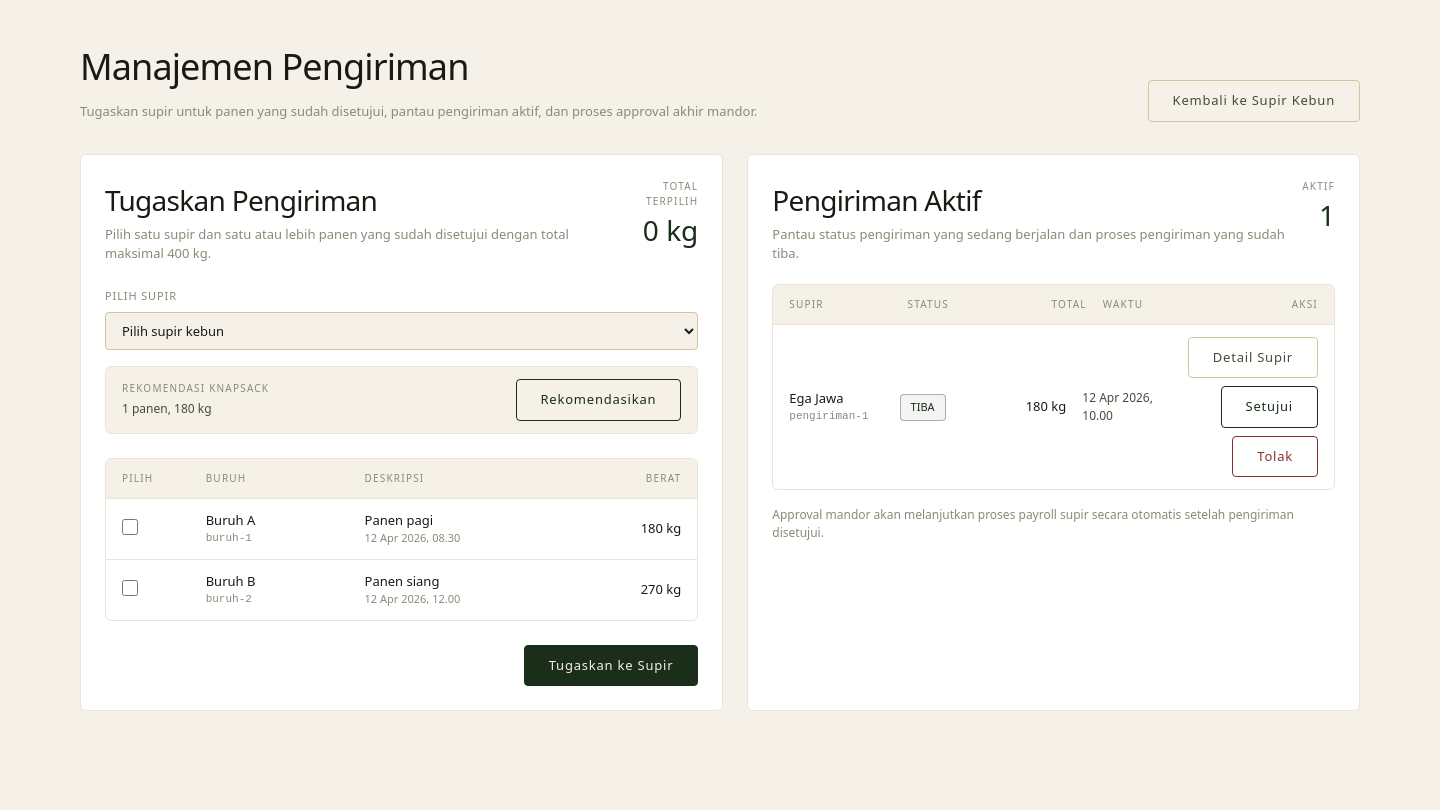
Test case: MandorPengirimanPage › applies the cached knapsack recommendation to selected panen
Click the button "Rekomendasikan".
click(598, 400)  # box [516,379,681,420]
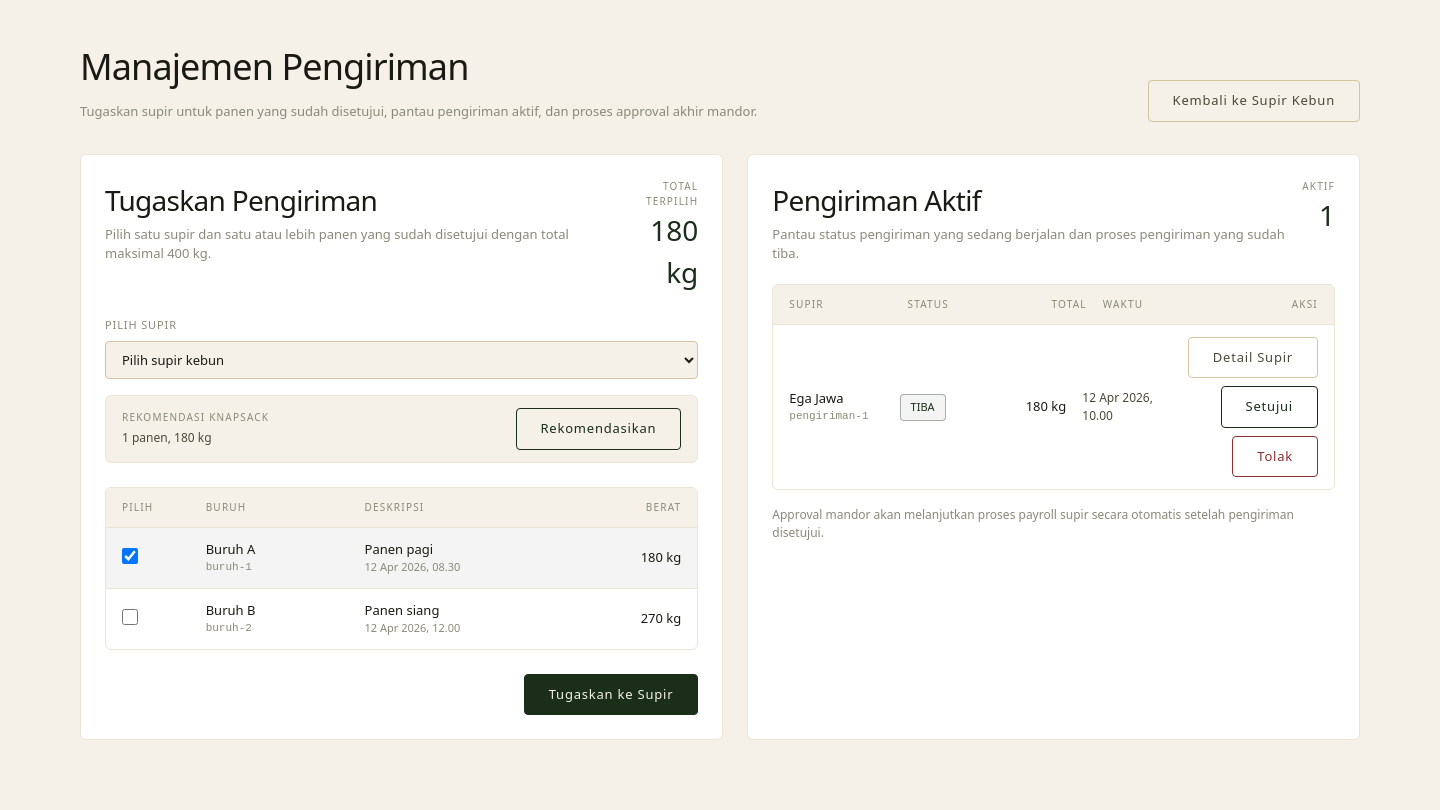
Expected: the checkbox labelled "Buruh B buruh-2 Panen siang 12 Apr 2026, 12.00 270 kg" is not checked, [122,608,138,624]
Now the checkbox labelled "Buruh A buruh-1 Panen pagi 12 Apr 2026, 08.30 180 kg" is checked, box [122,548,138,564]
